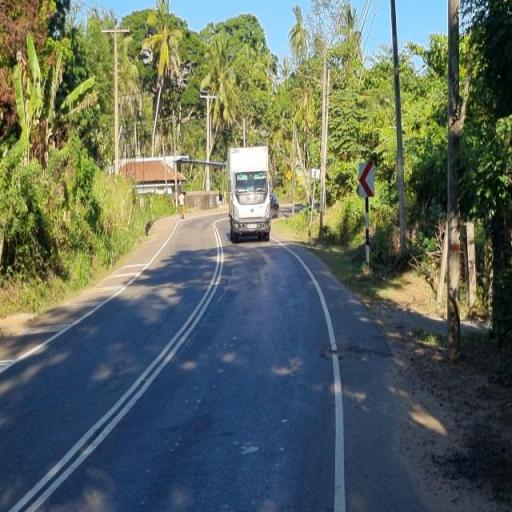double_white_line: (7, 217, 230, 512)
